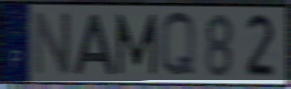2: (244, 12, 279, 81)
8: (204, 12, 235, 79)
A: (72, 12, 118, 76)
M: (114, 12, 159, 77)
N: (32, 9, 72, 79)
Q: (158, 10, 197, 81)
